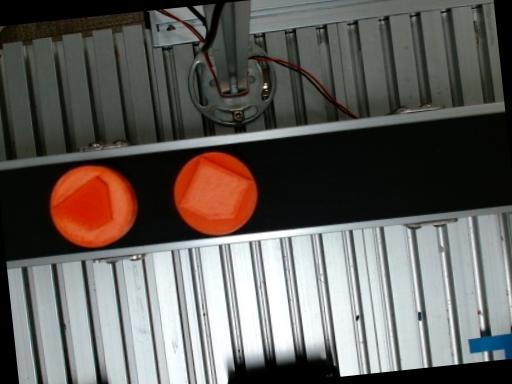Not_Square: (178, 157, 253, 220), (49, 176, 112, 231)
Orange_Waper: (50, 165, 137, 246), (174, 152, 257, 234)
